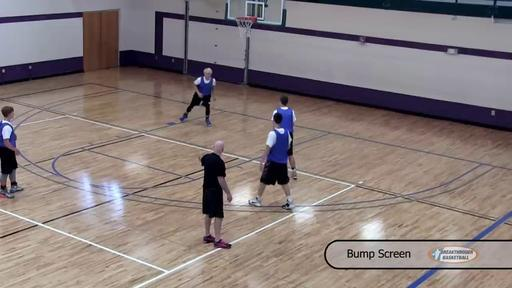human: (249, 113, 295, 210), (199, 140, 233, 249), (0, 106, 25, 198), (271, 96, 297, 180), (180, 67, 216, 125)
rim: (236, 16, 256, 38)
